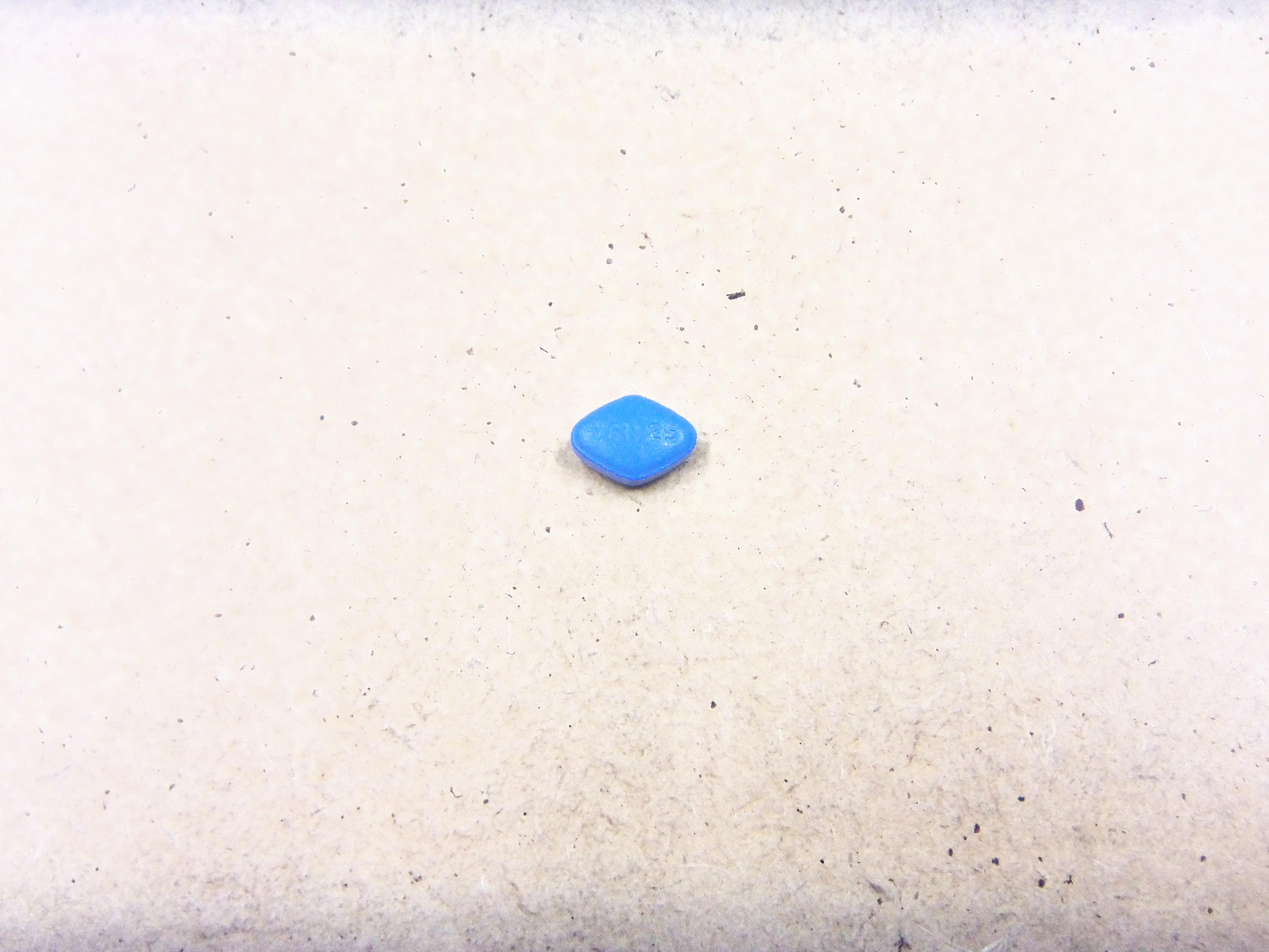Pill: (562, 385, 706, 496)
